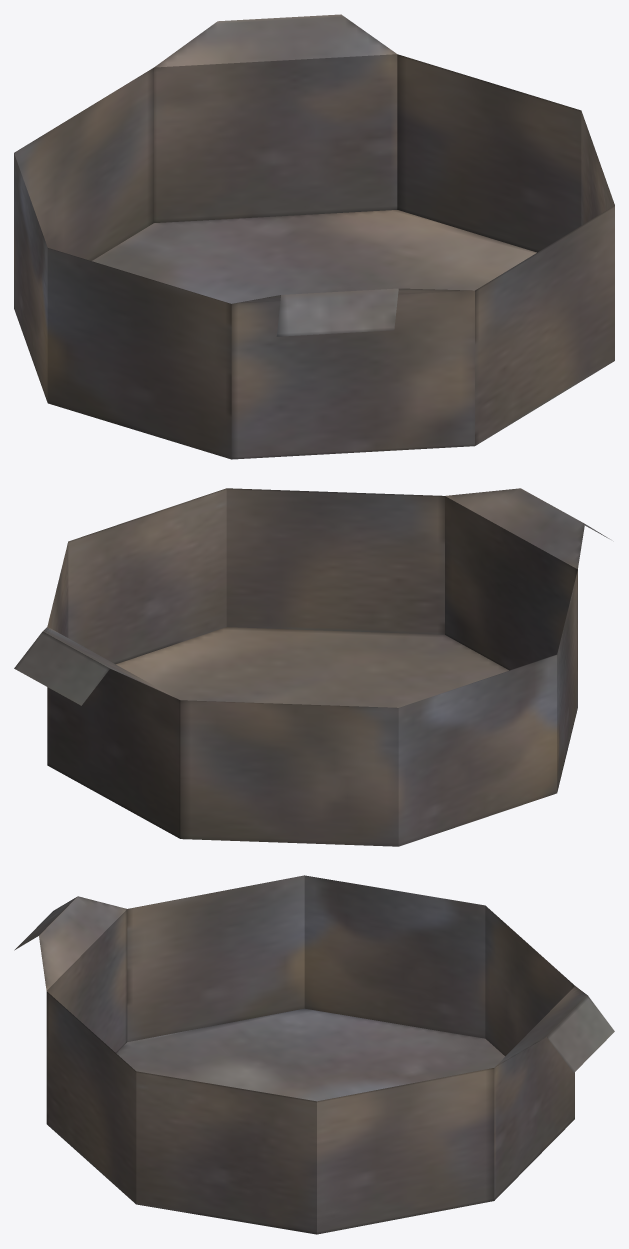
File: Cooker.fbx
3 views of the same model, one above another, from view 1: azimuth 30°, elevation 25°; view 2: azimuth 150°, elevation 25°; view 3: azimuth 270°, elevation 25° (orthographic). The views are drawn at different scales.
Visible parts, largest first — view 1: Cube.001; view 2: Cube.001; view 3: Cube.001.
Part boxes in pixels (x1,y1,x2,y2): Cube.001: [14, 14, 614, 459]; Cube.001: [14, 488, 610, 846]; Cube.001: [14, 875, 614, 1234].
Size of the model in its own units: 41.81 by 13.34 by 47.
Materials: 1 (1 with a texture image).
